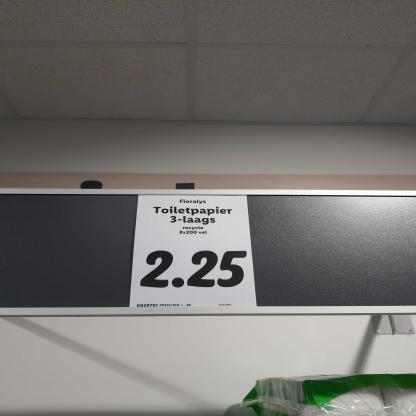prtg: (130, 196, 258, 308)
